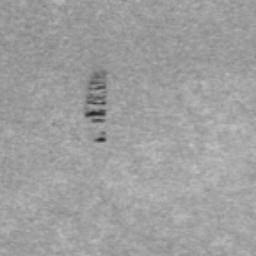Secondary rust skin: (84, 72, 107, 144)
